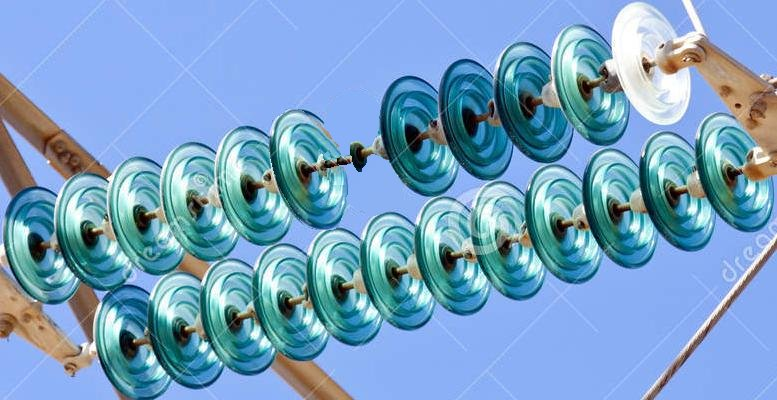gap: (268, 74, 459, 230)
